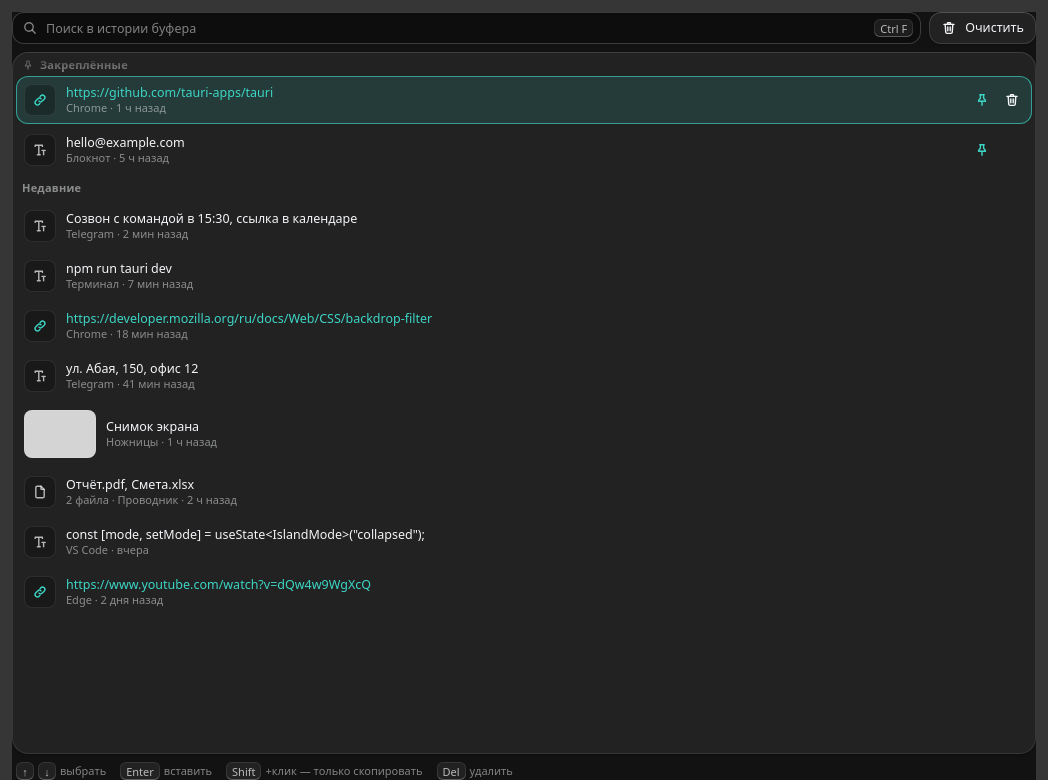
Clipboard tab: search › finds by text
Expected: the text "npm run tauri dev" is shown, [66, 260, 172, 277]
Type "hello@" into the field named "Поиск в истории буфера".
click(467, 28); type("hello@")  # box [12, 12, 921, 44]
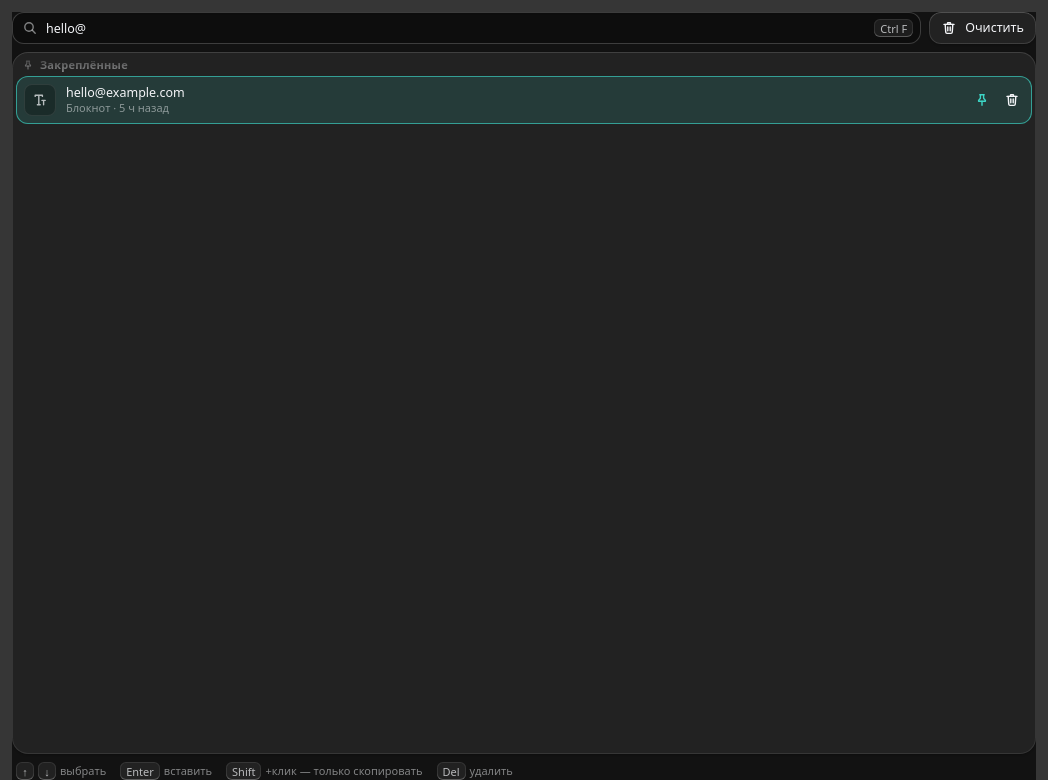
Expected: the option shows "hello@example.com", [16, 76, 1032, 124]
Now the number of options is 1, box [16, 76, 1032, 124]
